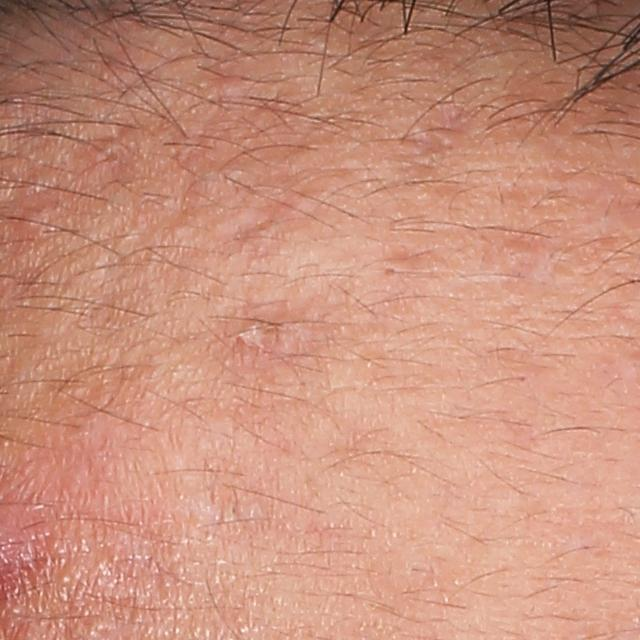comedo: (211, 68, 246, 97), (381, 261, 401, 280)
